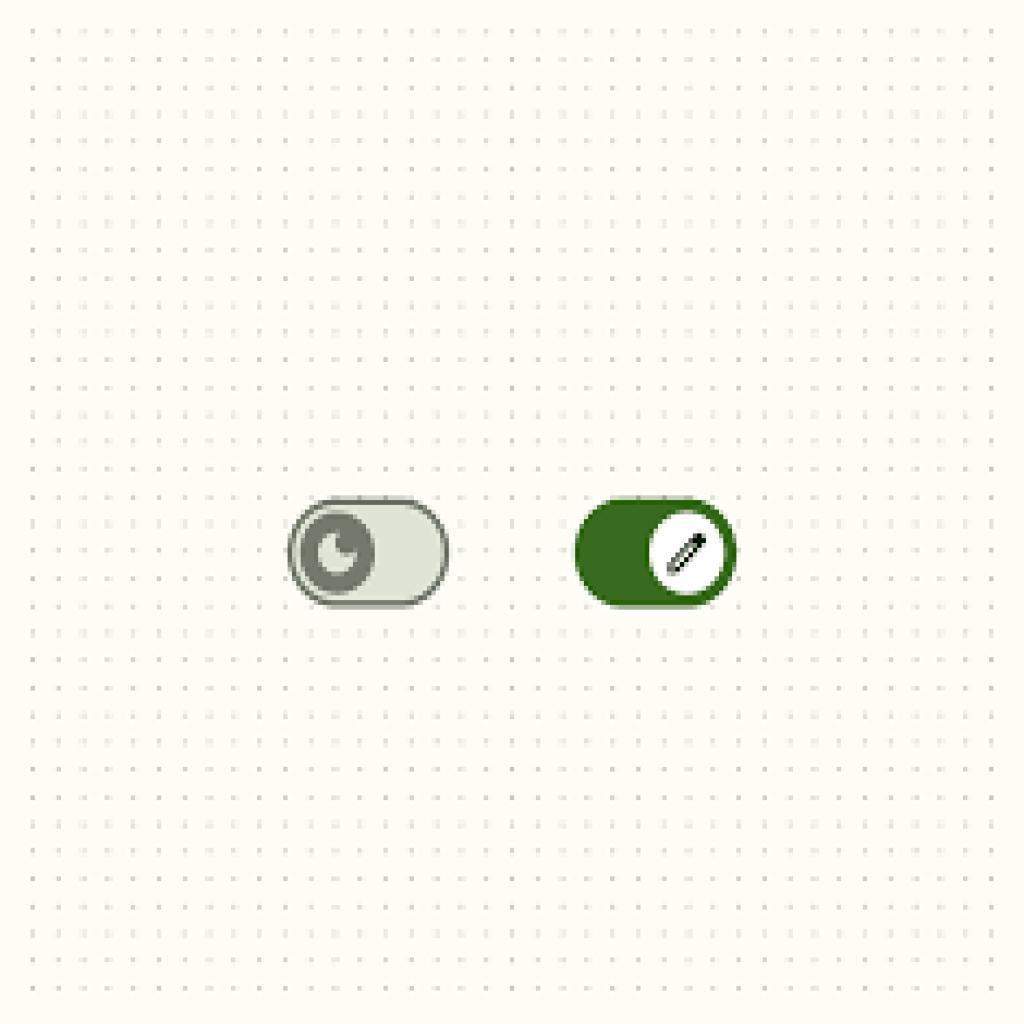switch: (575, 498, 742, 612), (291, 498, 454, 613)
